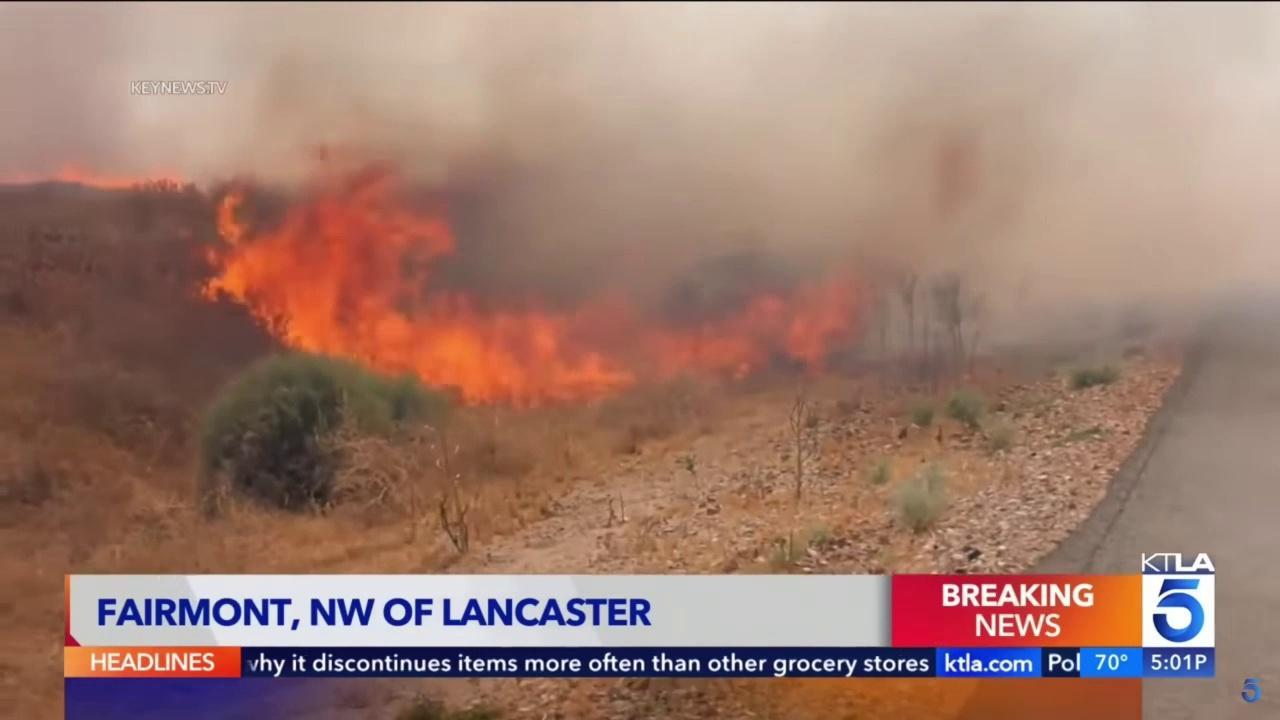fire: (193, 157, 871, 415), (0, 162, 186, 192)
smoke: (193, 2, 1280, 414), (0, 0, 163, 194)
